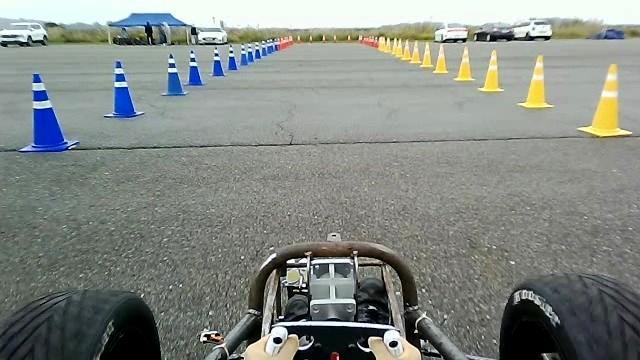blue cone: (17, 72, 79, 152), (103, 60, 145, 118), (160, 53, 188, 96), (183, 49, 206, 86), (209, 46, 227, 77), (227, 44, 239, 70)
yellow cone: (576, 63, 632, 137), (516, 54, 554, 108), (477, 49, 504, 92), (453, 45, 475, 81), (432, 44, 449, 73), (419, 41, 433, 67)
